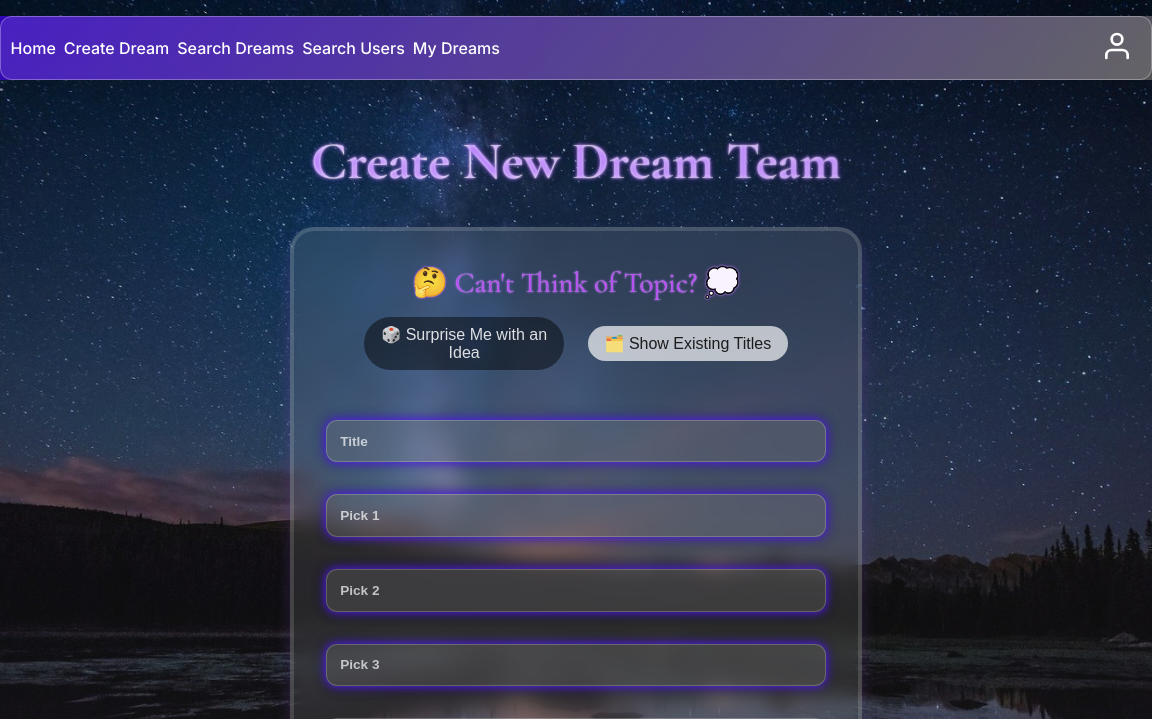
Scenario: CreateDream › fetches and sets a random noun as title
Click the button "🎲 Surprise Me with an Idea" at (464, 344), box [364,317,564,370]
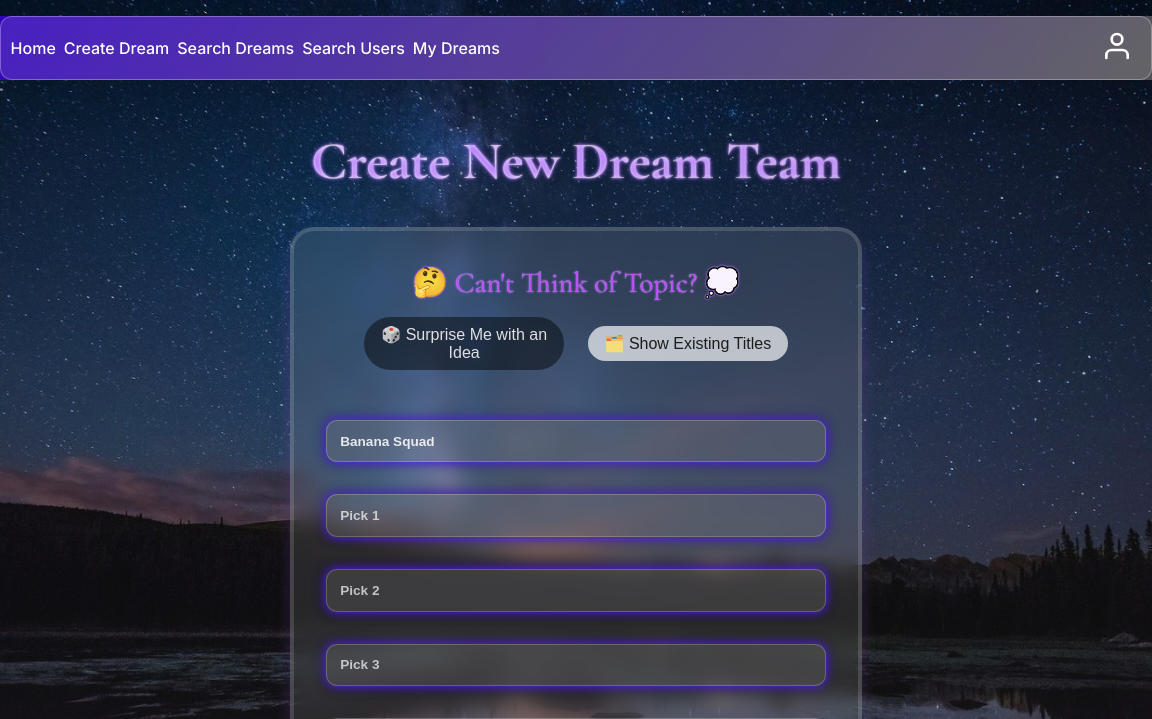
Expected: the field with placeholder "Title" holds "Banana Squad", [326,420,826,462]
